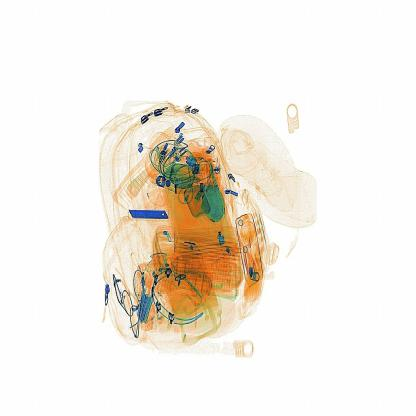pliers: (124, 203, 174, 231)
